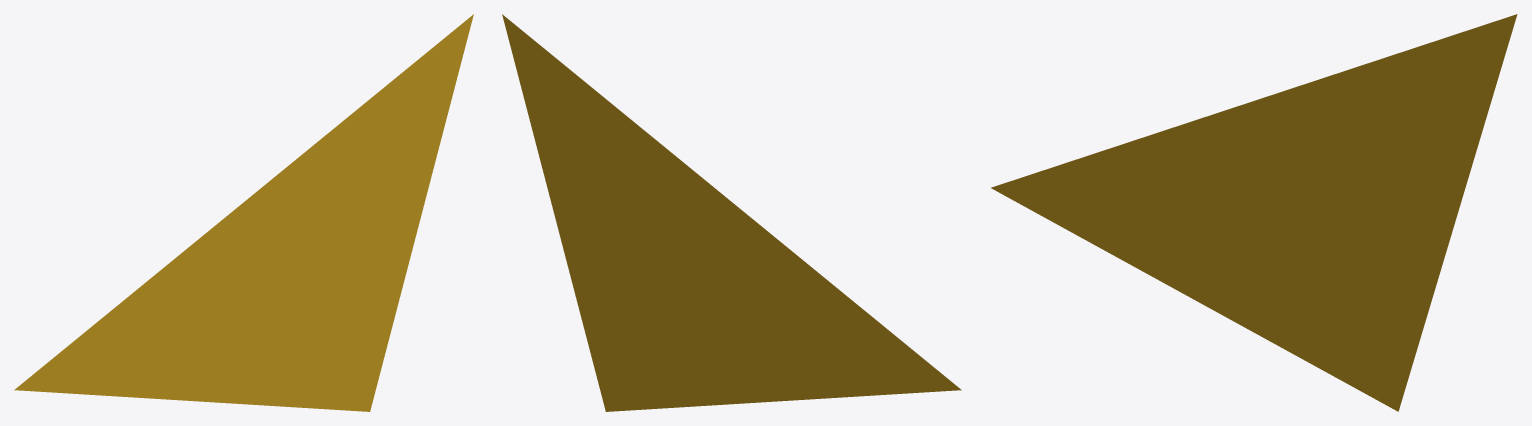
Rendered from triangle.gltf.
The picture shows the model from 3 angles, left to right: view 1: azimuth 30°, elevation 25°; view 2: azimuth 150°, elevation 25°; view 3: azimuth 330°, elevation 25°; orthographic projection. The views are drawn at different scales.
Parts seen in each view (by area): view 1: tri; view 2: tri; view 3: tri.
Boxes of the visible parts, left/top/right/bottom form: tri: left=14, top=14, right=473, bottom=411; tri: left=502, top=14, right=961, bottom=411; tri: left=991, top=14, right=1517, bottom=411.
Size of the model in its own units: 1.24 by 0.96 by 0.
Materials: 1 (1 with a texture image).
